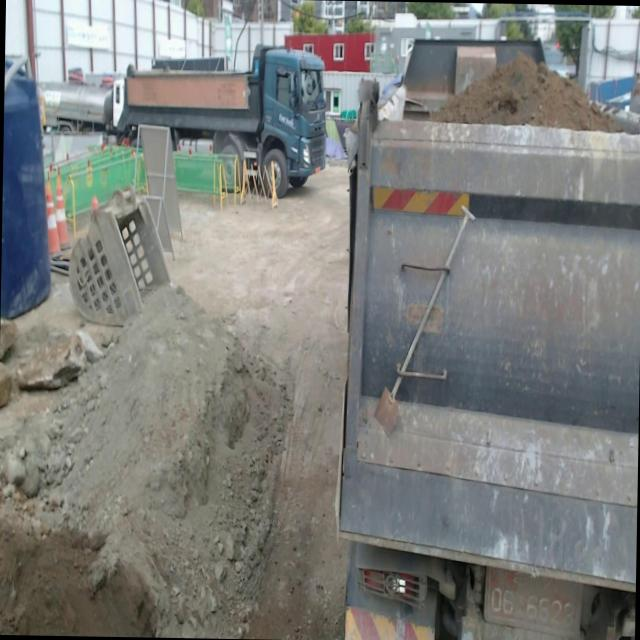red-sand: (425, 53, 619, 132)
stone: (16, 334, 85, 390), (0, 319, 17, 360), (0, 362, 12, 408)
white-sand: (0, 167, 348, 640)
